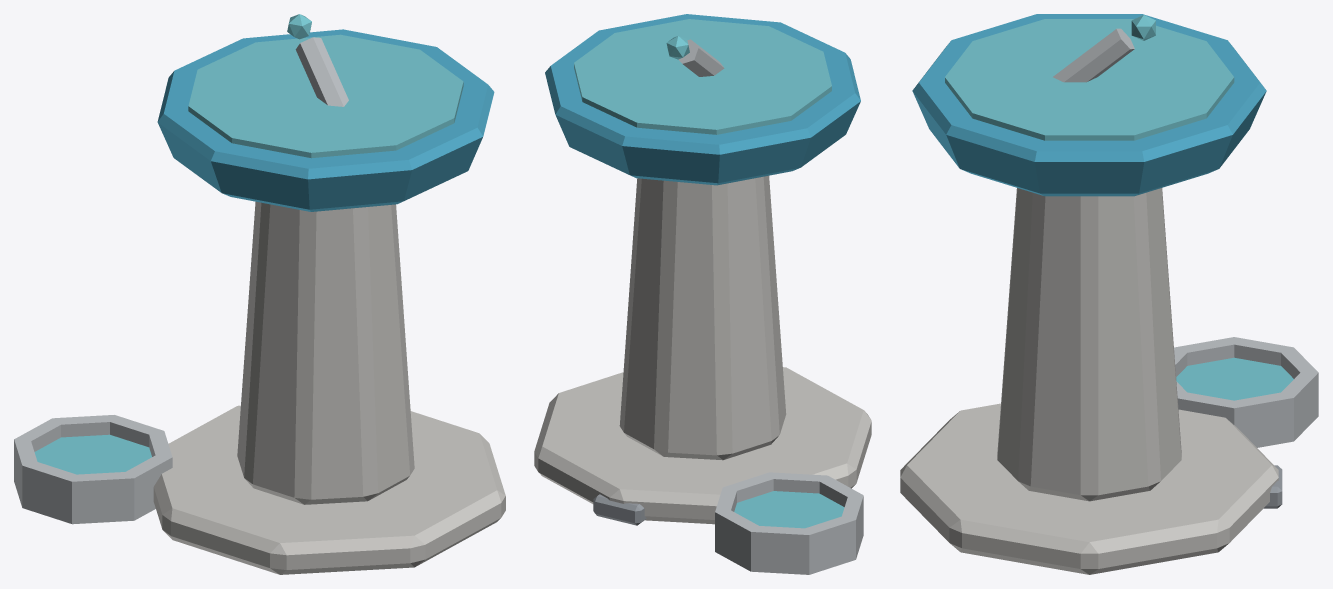
File: mobiliario__bebedouro.glb
3 views of the same model, side by side, from view 1: azimuth 30°, elevation 25°; view 2: azimuth 150°, elevation 25°; view 3: azimuth 270°, elevation 25° (orthographic). The views are drawn at different scales.
Parts seen in each view (by area): view 1: mobiliario__bebedouro; view 2: mobiliario__bebedouro; view 3: mobiliario__bebedouro.
Part boxes in pixels (x1=…): mobiliario__bebedouro: x1=14, y1=14, x2=505, y2=574; mobiliario__bebedouro: x1=534, y1=14, x2=871, y2=574; mobiliario__bebedouro: x1=900, y1=14, x2=1318, y2=574.
Bounding box in the file's own units: 0.3869 × 0.442 × 0.3469.
